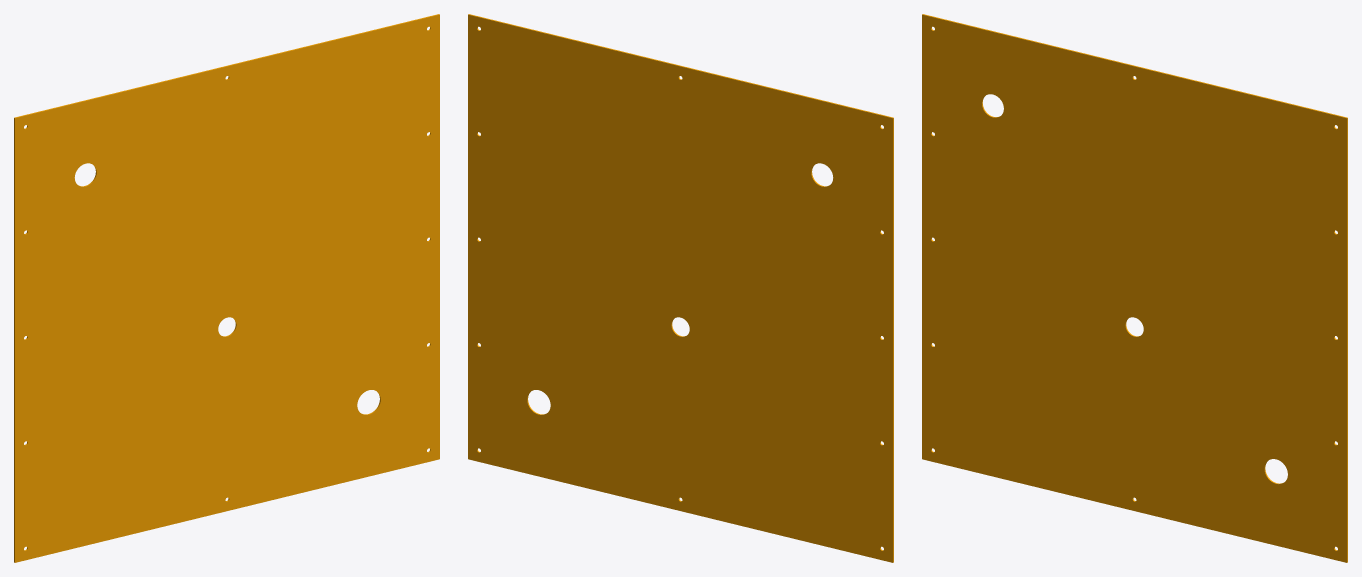
File: shell_top_lid.glb
3 renders of one model, left to right at view 1: azimuth 30°, elevation 25°; view 2: azimuth 150°, elevation 25°; view 3: azimuth 330°, elevation 25°, orthographic.
Visible parts, largest first — view 1: top_lid-diff-diff-diff-diff; view 2: top_lid-diff-diff-diff-diff; view 3: top_lid-diff-diff-diff-diff.
Part boxes in pixels (box(x1,y1,x2,y2)): top_lid-diff-diff-diff-diff: box(14, 14, 439, 562); top_lid-diff-diff-diff-diff: box(468, 14, 893, 562); top_lid-diff-diff-diff-diff: box(922, 14, 1347, 562).
Bounding box in the file's own units: 580 × 580 × 2.
